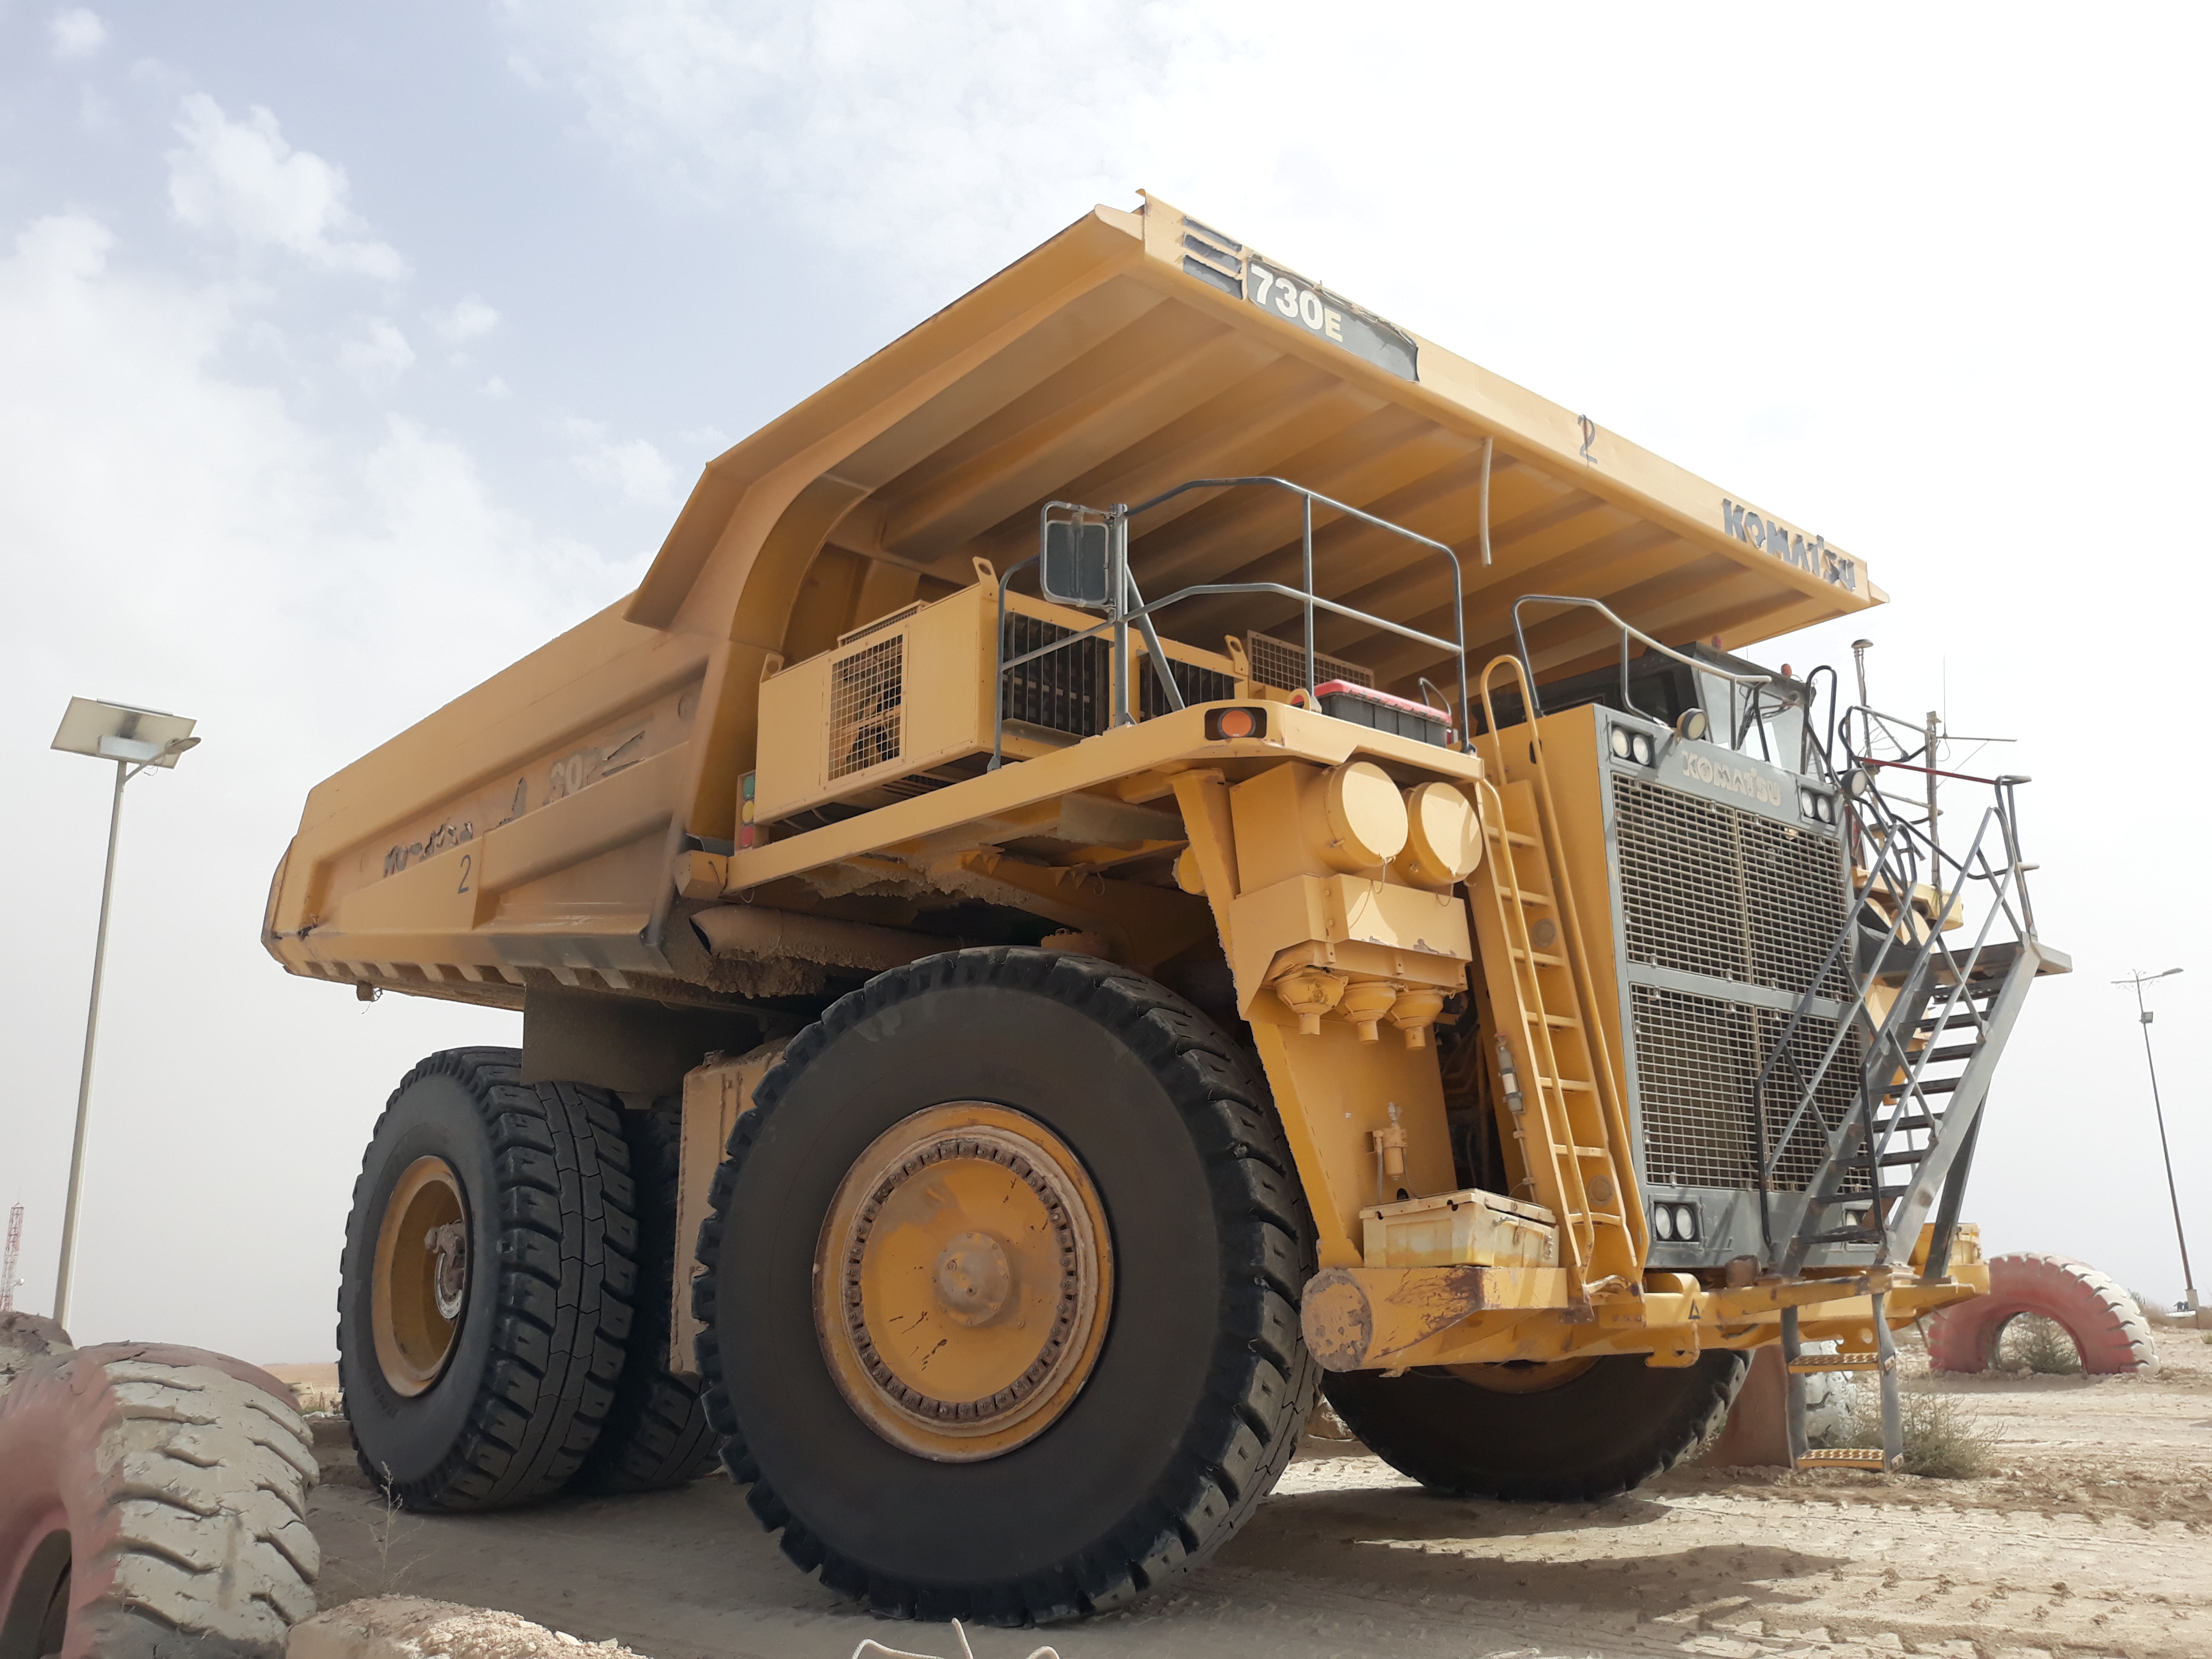camion: (258, 188, 2087, 1645)
